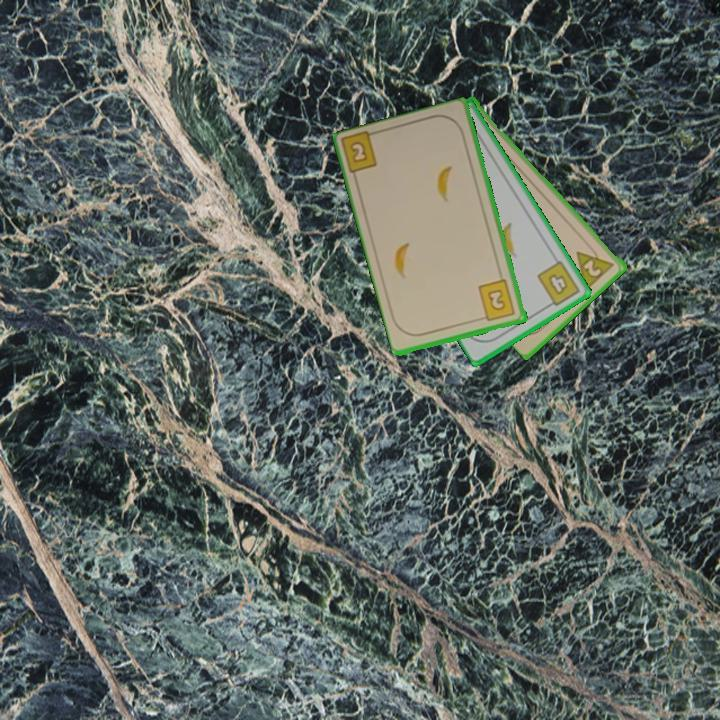2b: (475, 276, 518, 324), (347, 138, 371, 166)
2p: (573, 240, 617, 292)
4b: (534, 257, 583, 311)
